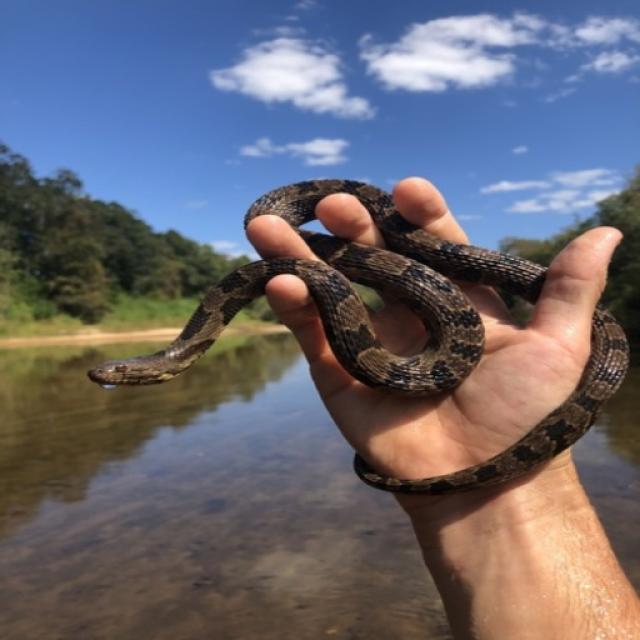snake: (93, 157, 621, 484)
